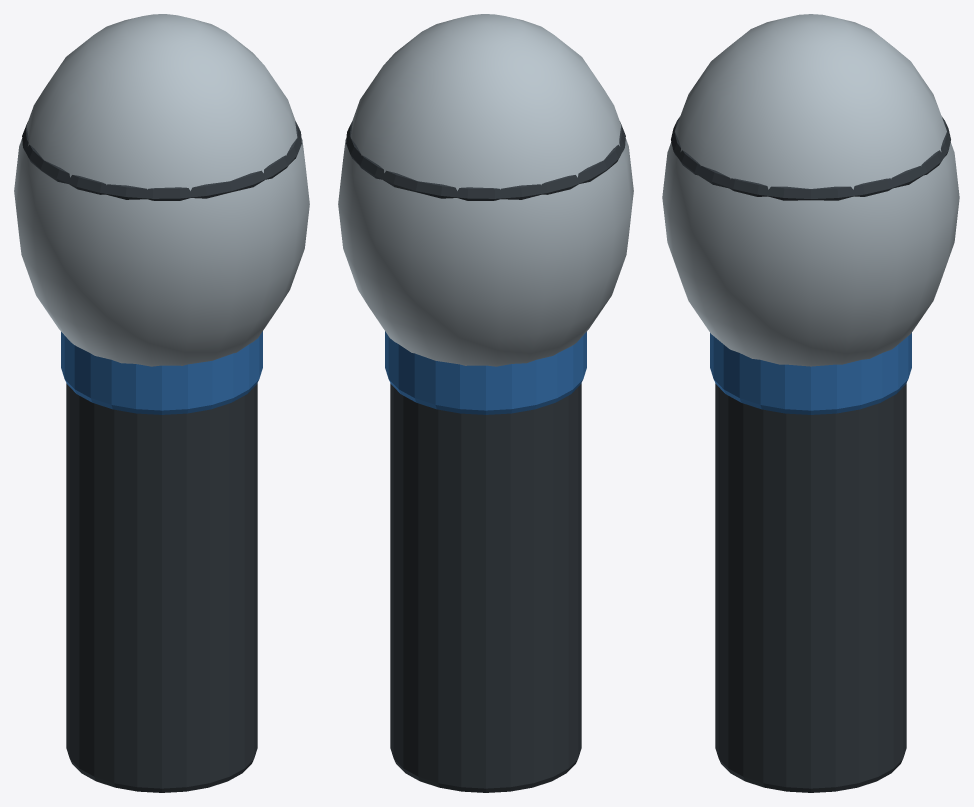
File: pickup_microphone.glb
3 renders of one model, left to right at view 1: azimuth 30°, elevation 25°; view 2: azimuth 150°, elevation 25°; view 3: azimuth 270°, elevation 25°, orthographic.
Parts seen in each view (by area): view 1: Metal microphone grille, Microphone handle, Blue microphone band, Grille ring.002; view 2: Metal microphone grille, Microphone handle, Blue microphone band, Grille ring.002; view 3: Metal microphone grille, Microphone handle, Blue microphone band, Grille ring.002.
Boxes of the visible parts, x1,y1,x2,y2 form: Metal microphone grille: [14, 14, 309, 366]; Microphone handle: [66, 383, 257, 792]; Blue microphone band: [61, 331, 262, 414]; Grille ring.002: [22, 121, 301, 200]; Metal microphone grille: [338, 14, 633, 366]; Microphone handle: [390, 383, 581, 792]; Blue microphone band: [385, 331, 586, 414]; Grille ring.002: [346, 121, 625, 200]; Metal microphone grille: [662, 14, 959, 366]; Microphone handle: [715, 383, 906, 792]; Blue microphone band: [710, 333, 911, 414]; Grille ring.002: [671, 117, 950, 200].
Bounding box in the file's own units: 0.28 × 0.76 × 0.28.
